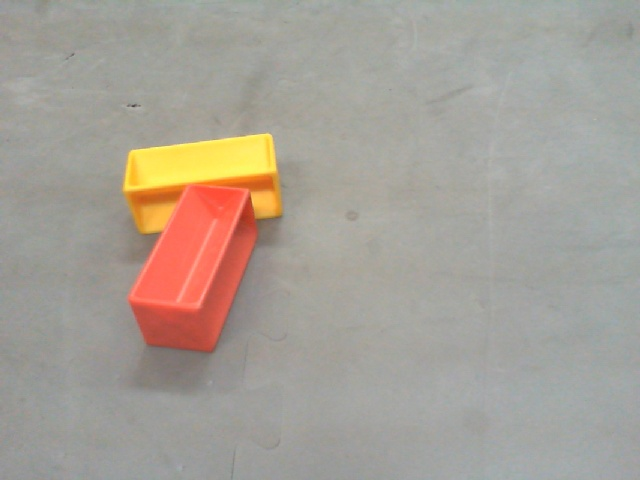RedSample: (126, 182, 260, 355)
YellowSample: (119, 128, 286, 237)
